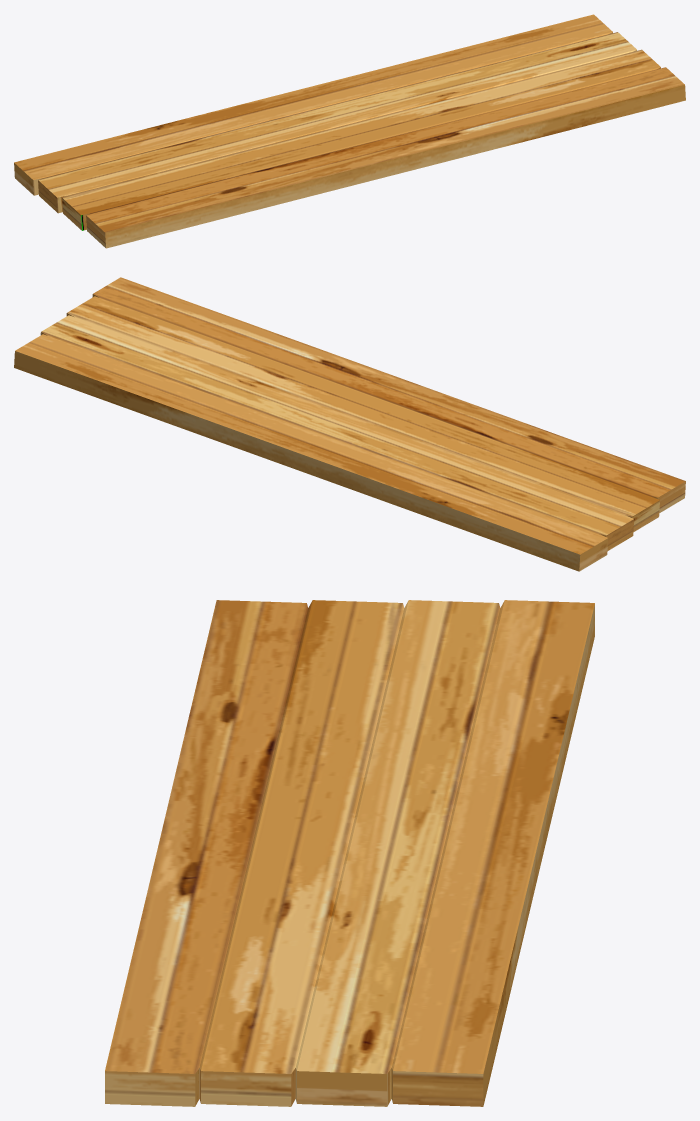
Rendered from SM_TreePlatforms_Box006.FBX.
The picture shows the model from 3 angles, top to bottom: view 1: azimuth 30°, elevation 25°; view 2: azimuth 150°, elevation 25°; view 3: azimuth 270°, elevation 25°; orthographic projection. The views are drawn at different scales.
Parts seen in each view (by area): view 1: Box006; view 2: Box006; view 3: Box006.
Boxes of the visible parts, box(x1,y1,x2,y2) form: Box006: box(14, 14, 685, 248); Box006: box(14, 277, 685, 571); Box006: box(105, 600, 594, 1106).
Size of the model in its own units: 22.4 by 1.93 by 8.55.
